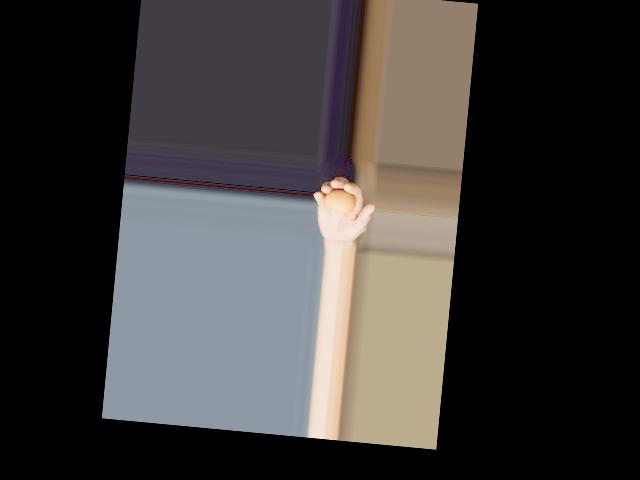egg: (322, 188, 356, 214)
